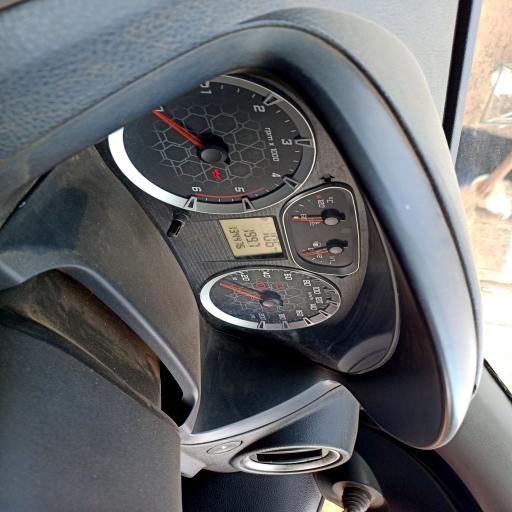tachometer: (110, 83, 317, 212)
